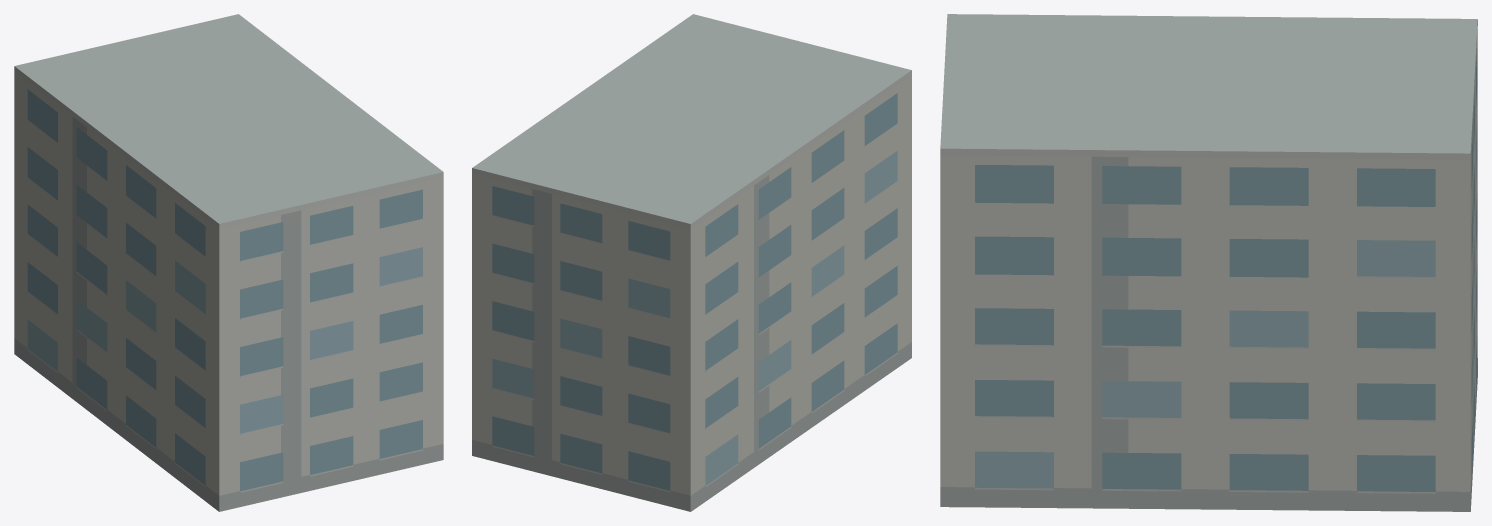
File: survey-upis-32824653.glb
3 views of the same model, side by side, from view 1: azimuth 30°, elevation 25°; view 2: azimuth 150°, elevation 25°; view 3: azimuth 270°, elevation 25° (orthographic). The views are drawn at different scales.
Visible parts, largest first — view 1: survey-upis-32824653.tmp; view 2: survey-upis-32824653.tmp; view 3: survey-upis-32824653.tmp.
Part boxes in pixels (bbox=[...]): survey-upis-32824653.tmp: bbox=[14, 14, 443, 511]; survey-upis-32824653.tmp: bbox=[472, 14, 911, 511]; survey-upis-32824653.tmp: bbox=[940, 14, 1477, 511].
Bounding box in the file's own units: 10.86 × 13 × 17.68.
